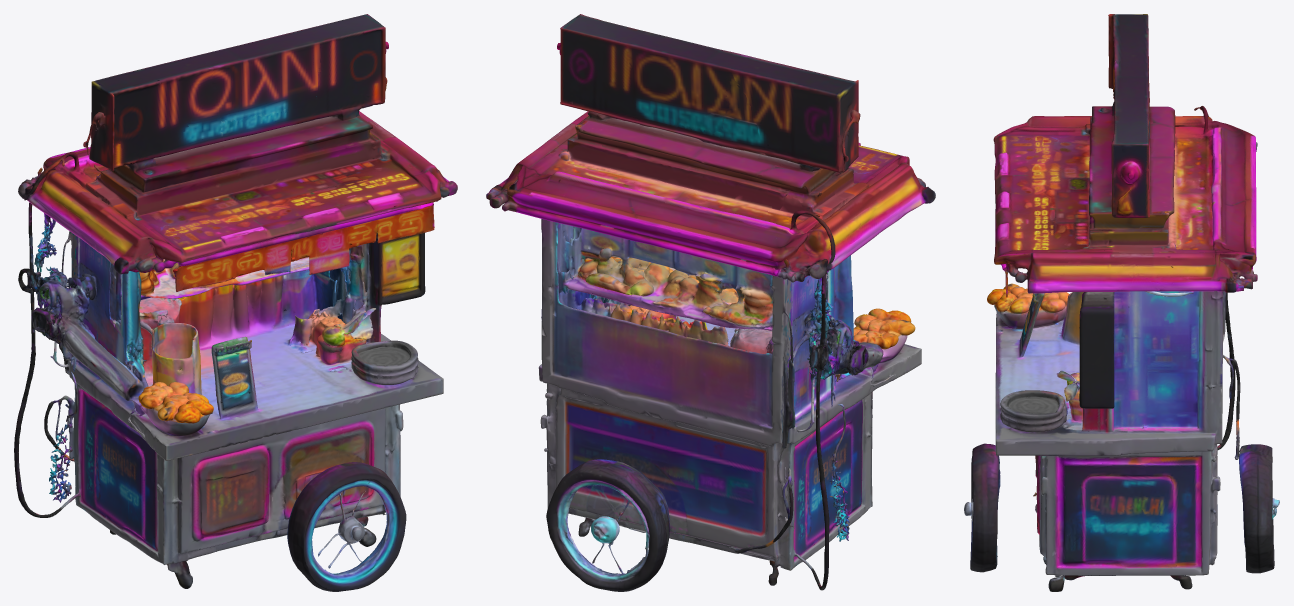
File: indian_street_food_cart.glb
3 views of the same model, side by side, from view 1: azimuth 30°, elevation 25°; view 2: azimuth 150°, elevation 25°; view 3: azimuth 270°, elevation 25° (orthographic). The views are drawn at different scales.
Visible parts, largest first — view 1: input; view 2: input; view 3: input.
Boxes of the visible parts, <box> form: input: <box>14,14,457,591</box>; input: <box>486,14,935,591</box>; input: <box>964,14,1279,591</box>.
Size of the model in its own units: 1.49 by 2 by 1.22.
1 material, 1 textured.
